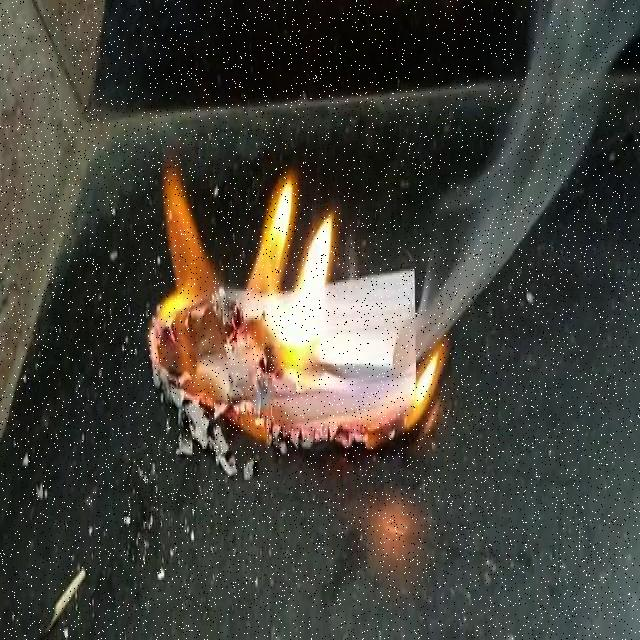fire: (142, 172, 340, 379), (407, 357, 472, 449)
smoke: (416, 7, 640, 335)
